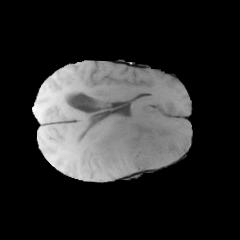glioma: (90, 97, 189, 173)
